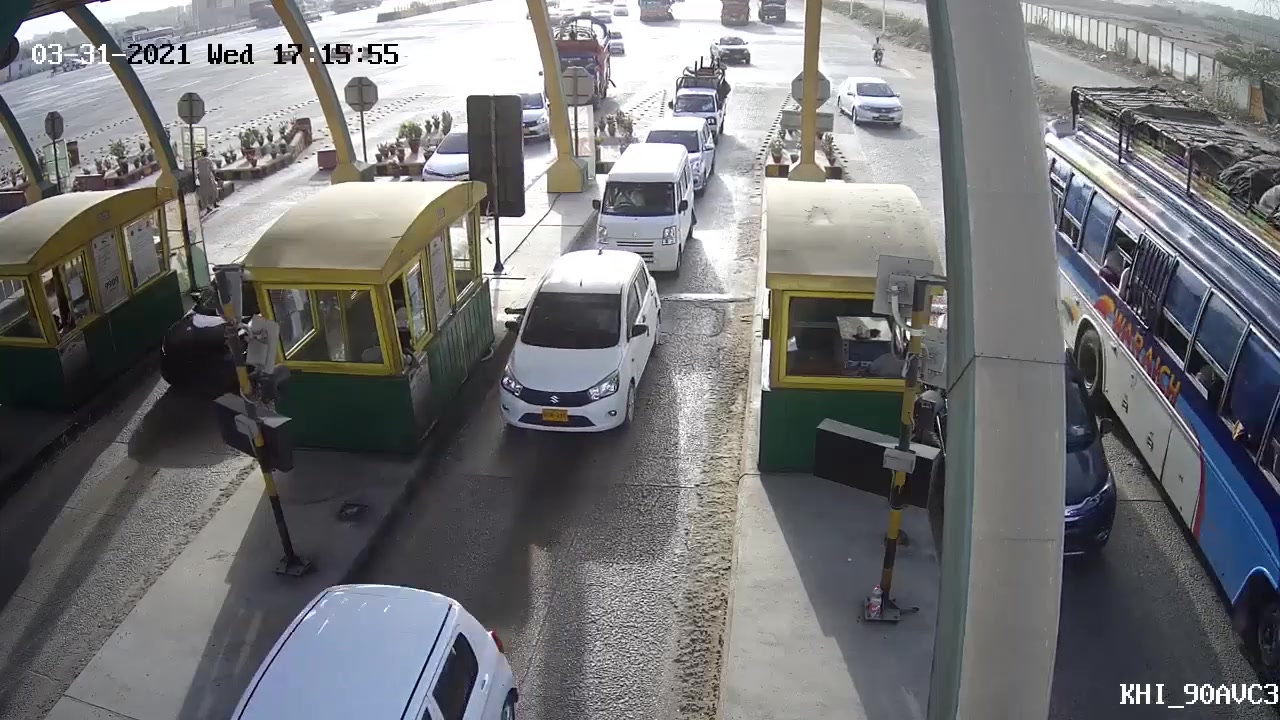F1: (488, 247, 668, 447), (588, 139, 700, 278)
